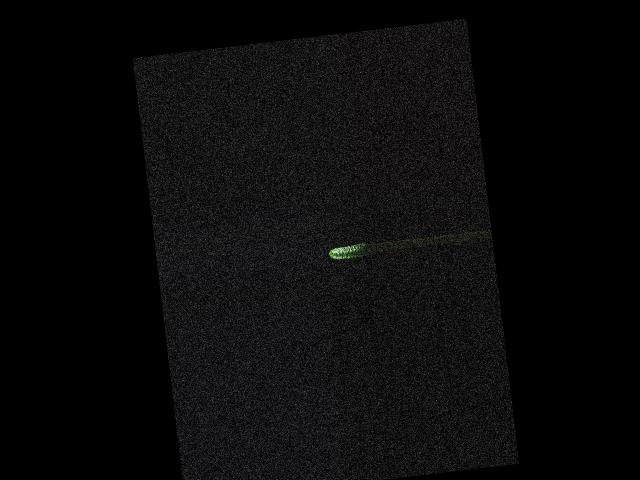cucumber: (328, 241, 371, 260)
